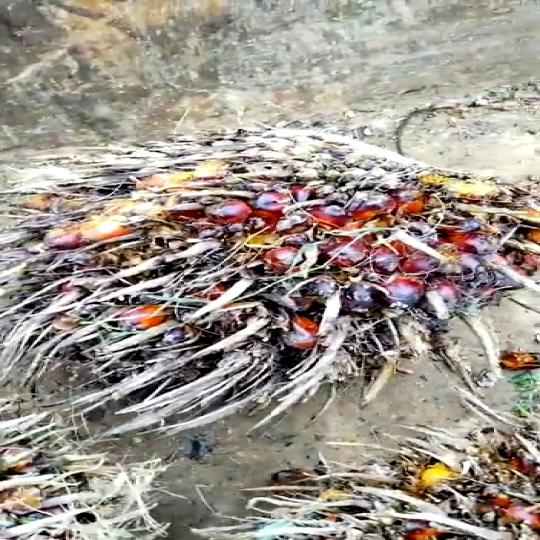terlalu masak: (0, 127, 540, 438)
